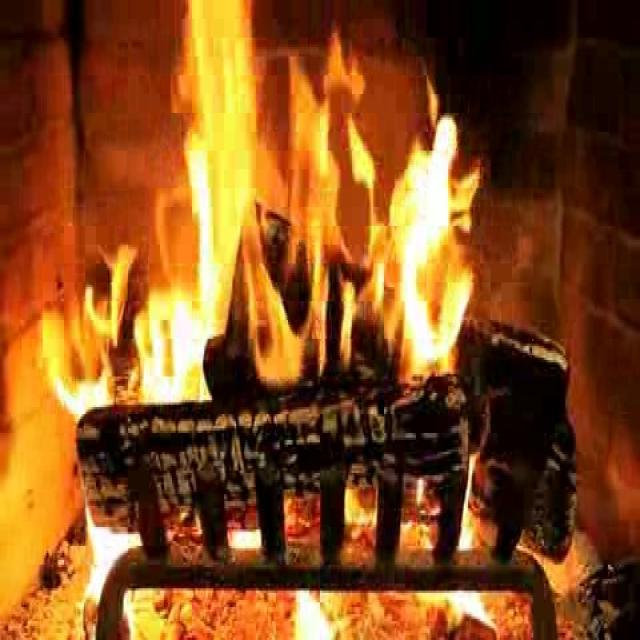fire: (145, 0, 470, 402)
